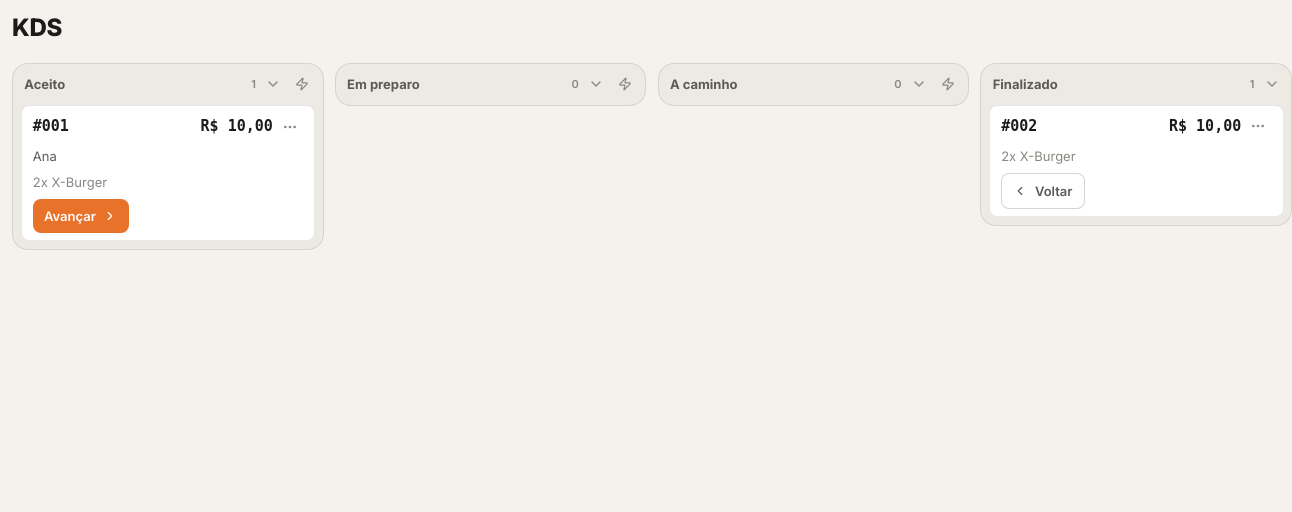
Test: KdsPage collapsible stages › expands a collapsed stage again
Click the button with aria-label "Recolher etapa Aceito".
click(45, 84)  # box [20,71,285,97]
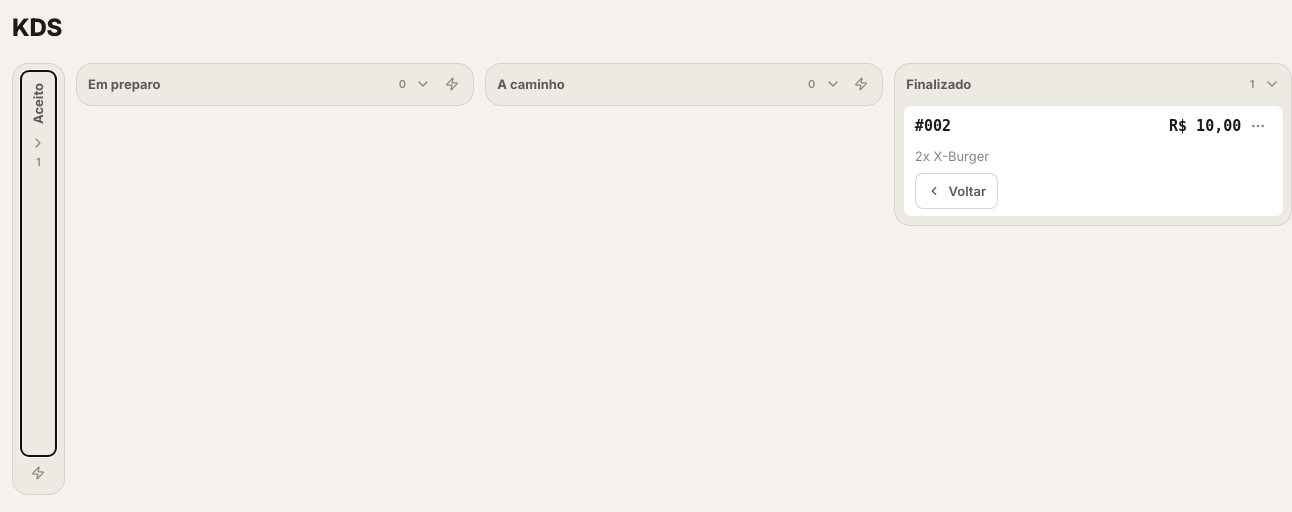
Click the button with aria-label "Expandir etapa Aceito".
click(38, 264)  # box [20,71,56,456]
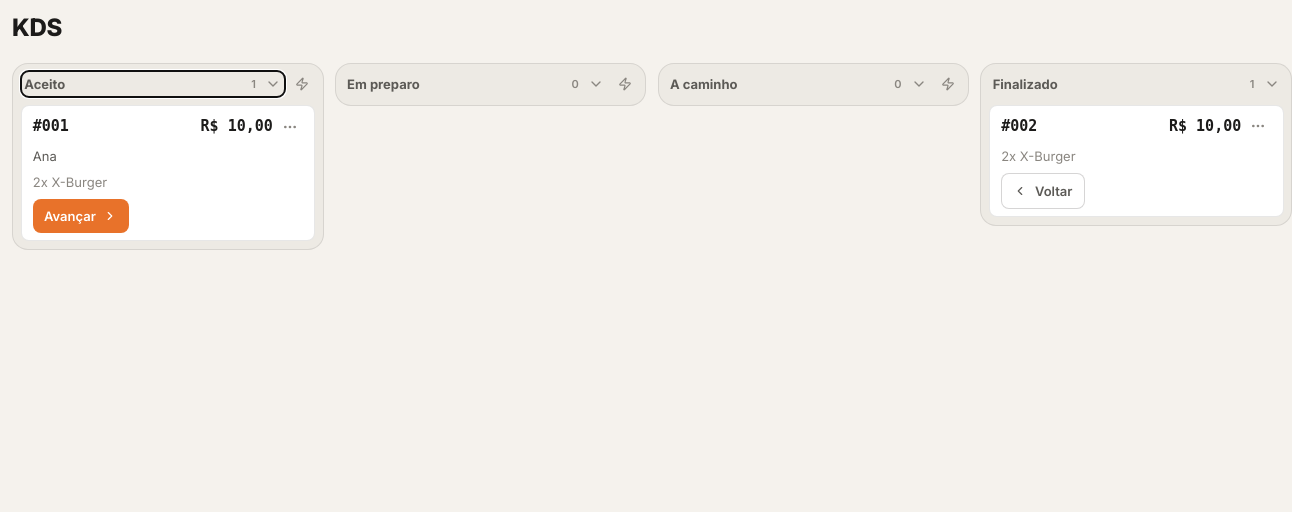
Result: the text "#001" is shown at [33,115,69,138]
